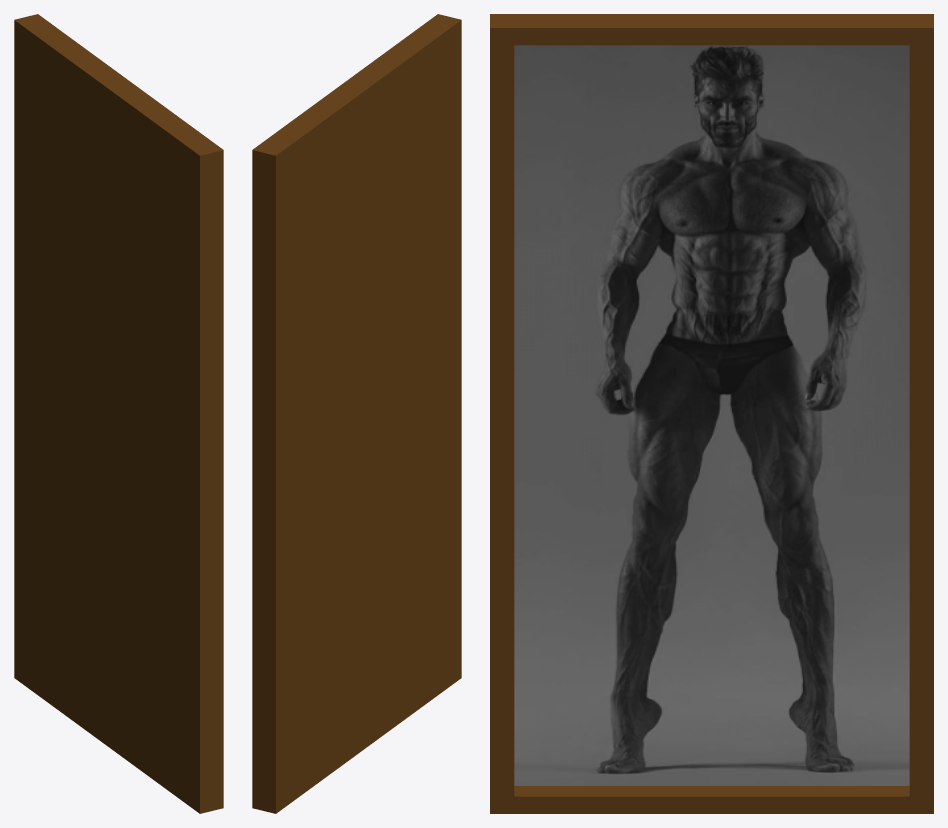
3 views of the same model, side by side, from view 1: azimuth 30°, elevation 25°; view 2: azimuth 150°, elevation 25°; view 3: azimuth 270°, elevation 25° (orthographic). The views are drawn at different scales.
Parts seen in each view (by area): view 1: unknown; view 2: unknown; view 3: unknown.
Part boxes in pixels (<box>): unknown: <box>14,14,223,813</box>; unknown: <box>252,14,461,813</box>; unknown: <box>490,14,933,813</box>.
Size of the model in its own units: 7.2 by 190 by 97.4.
Materials: 2 (1 with a texture image).
